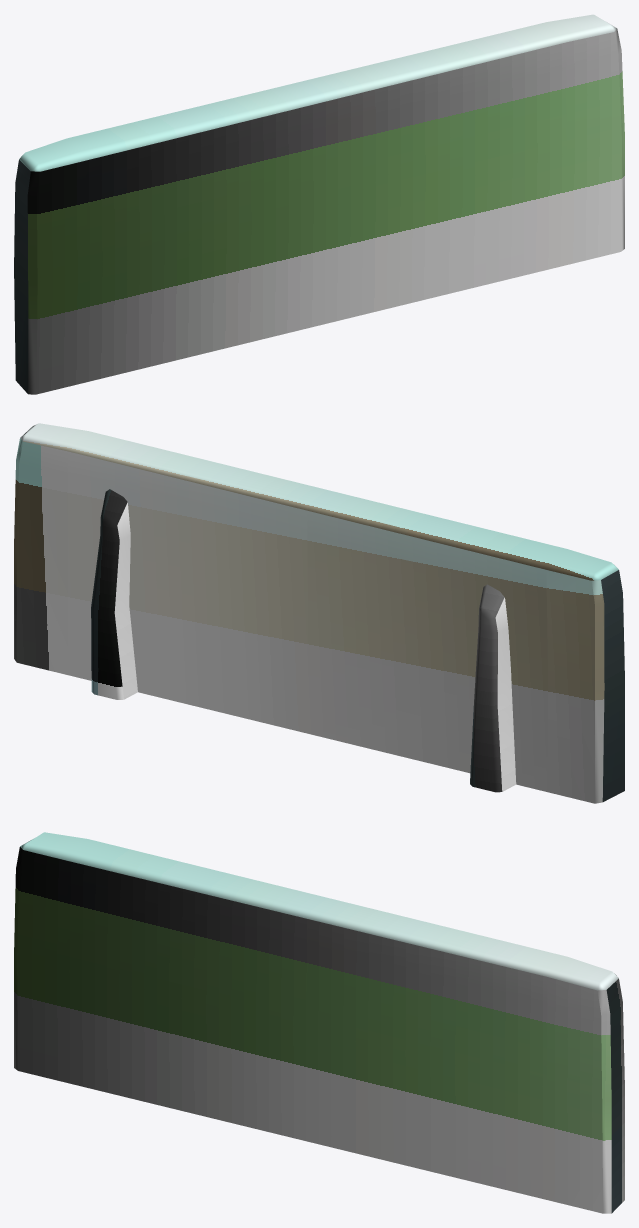
The model's file is P_StoneWallShelf.glb.
The picture shows the model from 3 angles, top to bottom: view 1: azimuth 30°, elevation 25°; view 2: azimuth 150°, elevation 25°; view 3: azimuth 330°, elevation 25°; orthographic projection.
Parts seen in each view (by area): view 1: P_StoneWallShelf; view 2: P_StoneWallShelf; view 3: P_StoneWallShelf.
Part boxes in pixels (bbox=[...]): P_StoneWallShelf: bbox=[14, 14, 624, 394]; P_StoneWallShelf: bbox=[14, 423, 624, 803]; P_StoneWallShelf: bbox=[14, 832, 624, 1213].
Bounding box in the file's own units: 1.5 × 0.5504 × 0.1636.
1 material, 1 textured.
